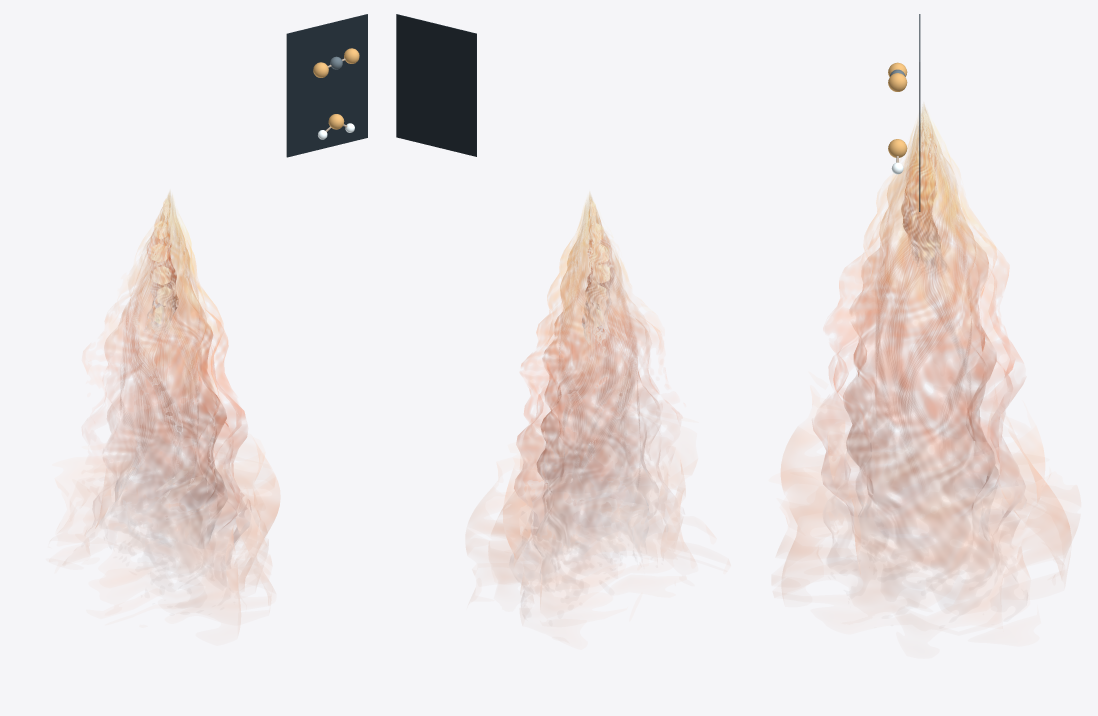
Rendered from plume.glb.
3 renders of one model, left to right at view 1: azimuth 30°, elevation 25°; view 2: azimuth 150°, elevation 25°; view 3: azimuth 270°, elevation 25°, orthographic. The views are drawn at different scales.
Parts seen in each view (by area): view 1: Warm billowing gas surface, Molecular inset plate, Soft outer gas surface, Luminous ribbon 1, Luminous source surface, Dissipating upper haze; view 2: Warm billowing gas surface, Molecular inset plate, Soft outer gas surface, Luminous ribbon 1, Dissipating upper haze, Luminous source surface; view 3: Warm billowing gas surface, Soft outer gas surface, Luminous ribbon 1, Luminous source surface, Dissipating upper haze.
Part boxes in pixels (x1,y1,x2,y2): Warm billowing gas surface: (105,198,227,545); Molecular inset plate: (286,14,367,157); Soft outer gas surface: (99,220,250,542); Luminous ribbon 1: (120,199,199,453); Luminous source surface: (147,192,178,324); Dissipating upper haze: (96,453,279,590); Warm billowing gas surface: (536,204,656,543); Molecular inset plate: (396,14,476,156); Soft outer gas surface: (514,208,676,535); Luminous ribbon 1: (559,203,639,427); Dissipating upper haze: (501,464,684,584); Luminous source surface: (582,193,614,328); Warm billowing gas surface: (843,115,997,539); Soft outer gas surface: (813,126,1022,549); Luminous ribbon 1: (876,123,970,405); Luminous source surface: (901,104,941,264); Dissipating upper haze: (781,440,1069,573).
Bounding box in the file's own units: 5.13 × 8.9 × 3.66.
Materials: 12 (6 with a texture image).
